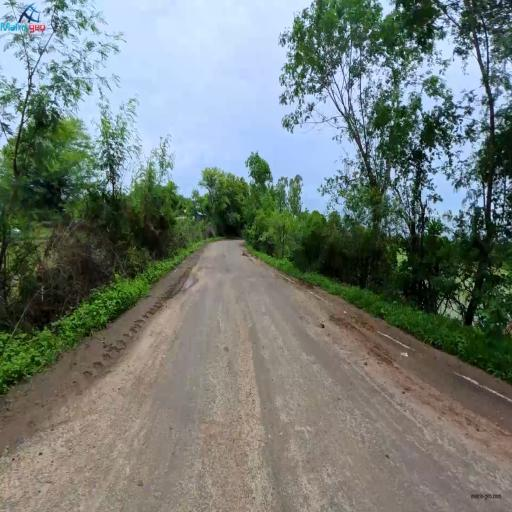ravelling: (220, 308, 300, 490)
